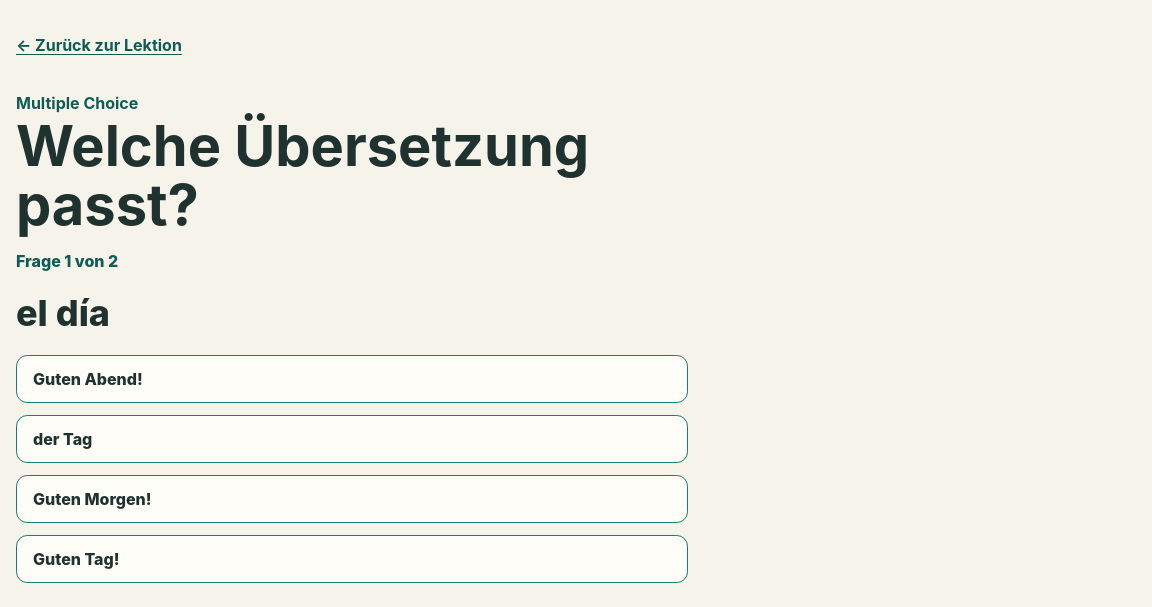
Test case: MultipleChoiceMode › shows four options and records one correct choice without advancing automatically
Click the button "der Tag": (63, 439) [16,415,688,463]
(page scrolled)
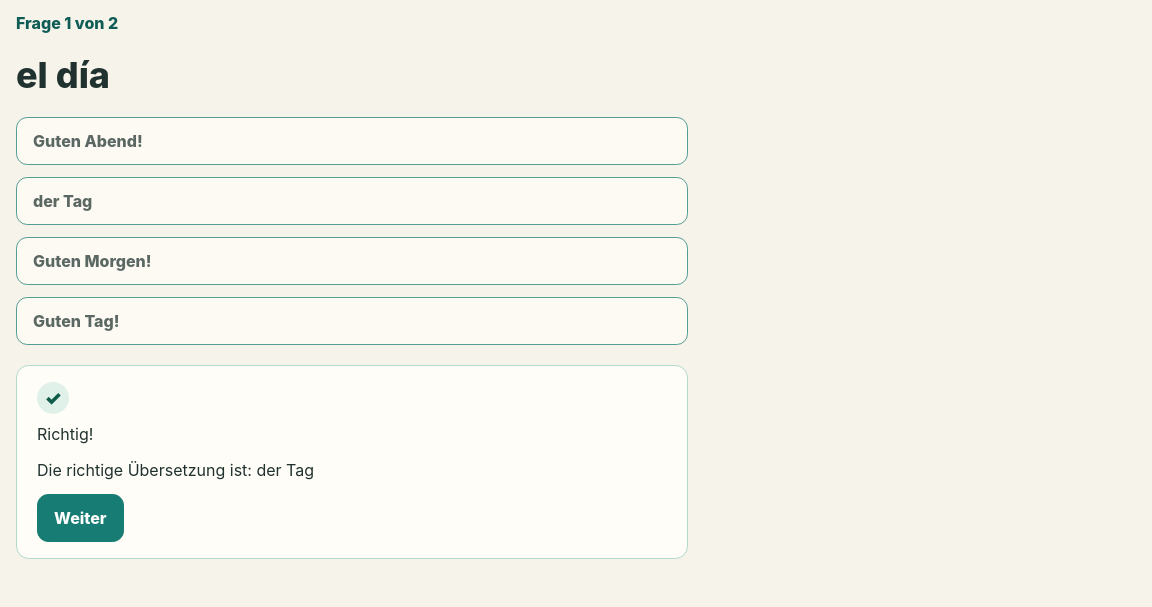
Expected: the message reads "Richtig!", [37,424,93,444]
Expected: the text "Die richtige Übersetzung ist: der Tag" is shown, [37,460,314,480]
Expected: the button "Guten Abend!" is disabled, [16,117,688,165]
